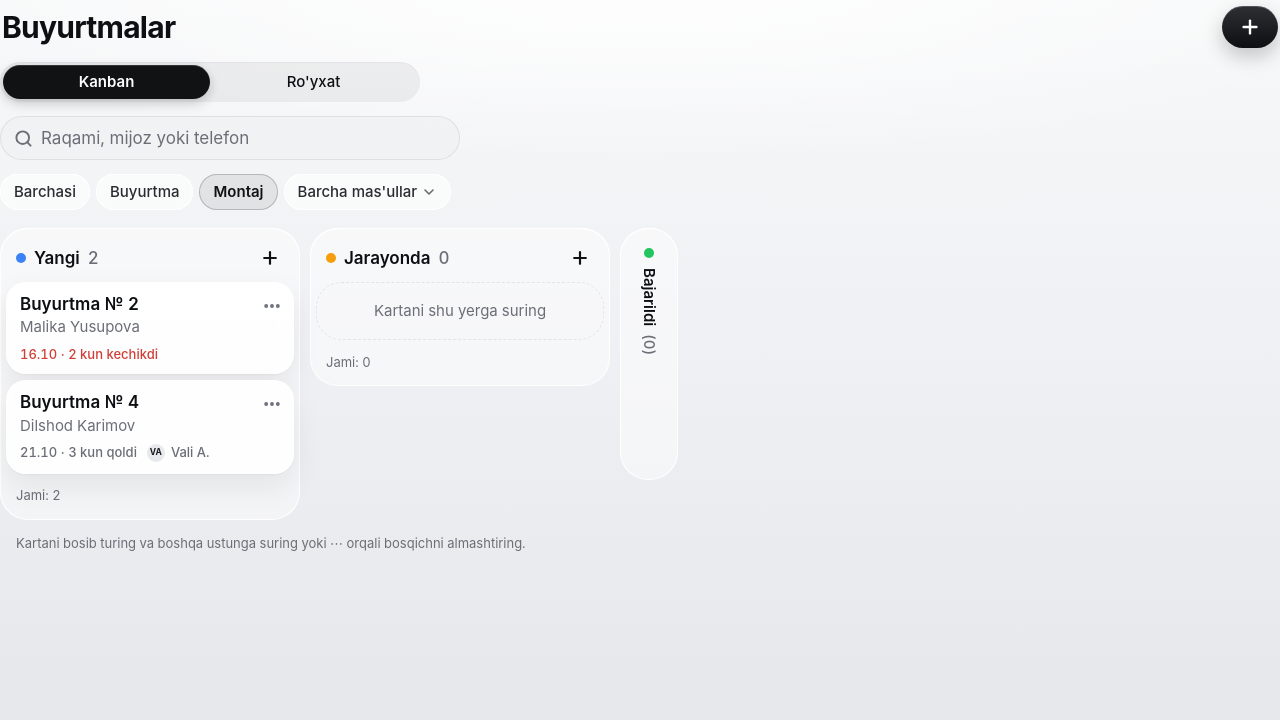
Test: the + of a column opens the dialog for that stage; under a tab it opens with that tab's type; it opens empty every time
Expected: the element named "Kanban" is shown, [0,228,678,520]
Click the button named "Buyurtma qo'shish: Jarayonda" at [580, 258], box [562,240,598,276]
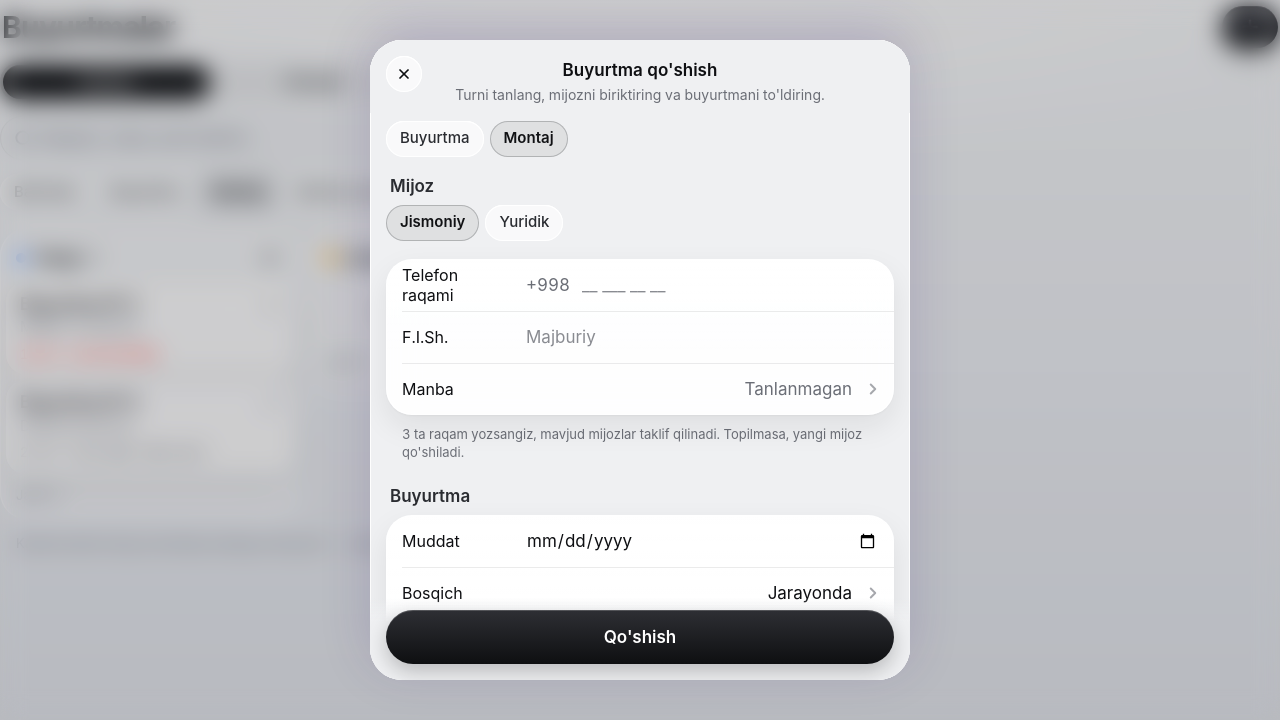
Result: the button labelled "Bosqich Jarayonda" is shown at [386,567,894,619]
Type "2026-10-18" into the date field labelled "Muddat" at [702, 541], box [526,519,878,563]
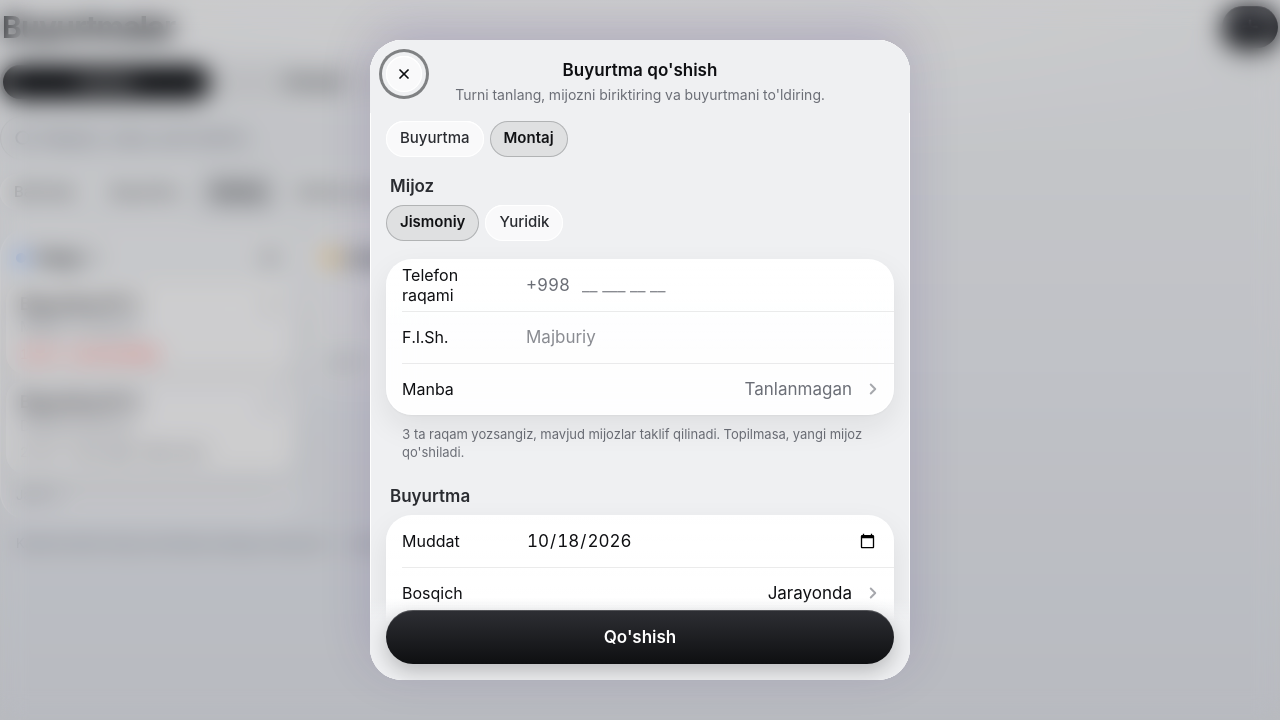
Press Escape
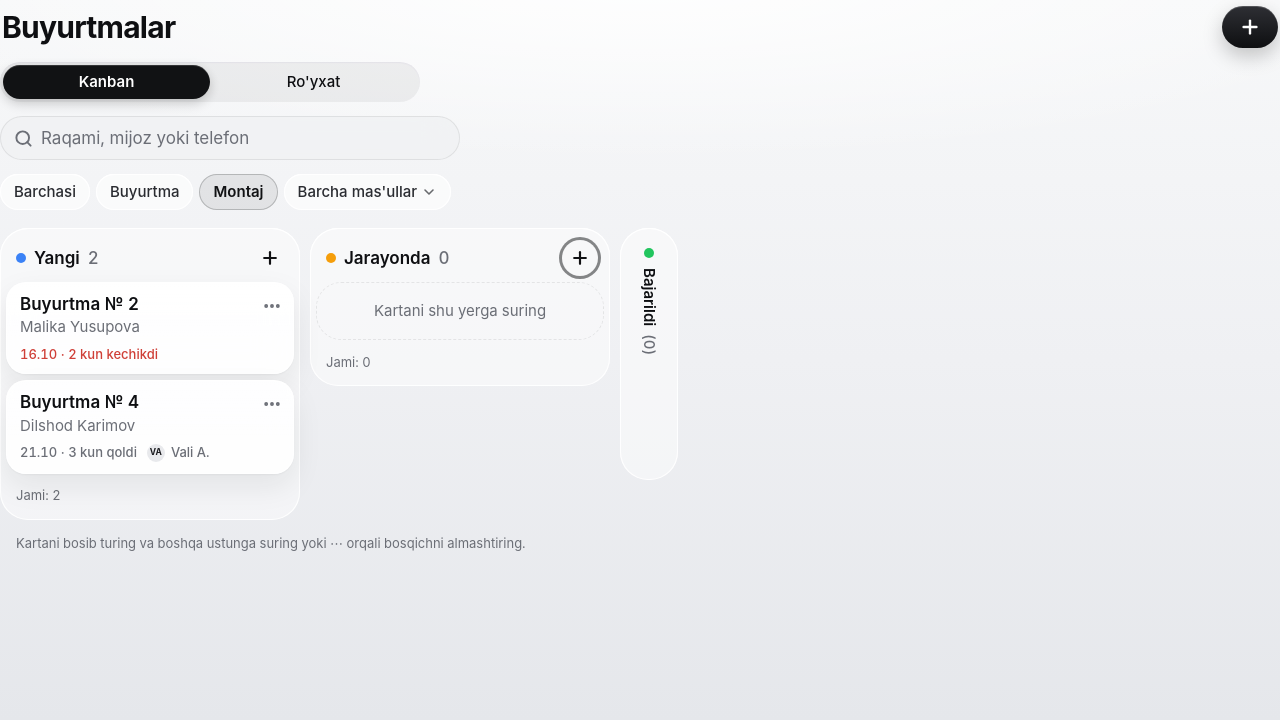
Result: the dialog is gone
Click the button named "Buyurtma qo'shish" at [1250, 27], box [1222,6,1278,48]
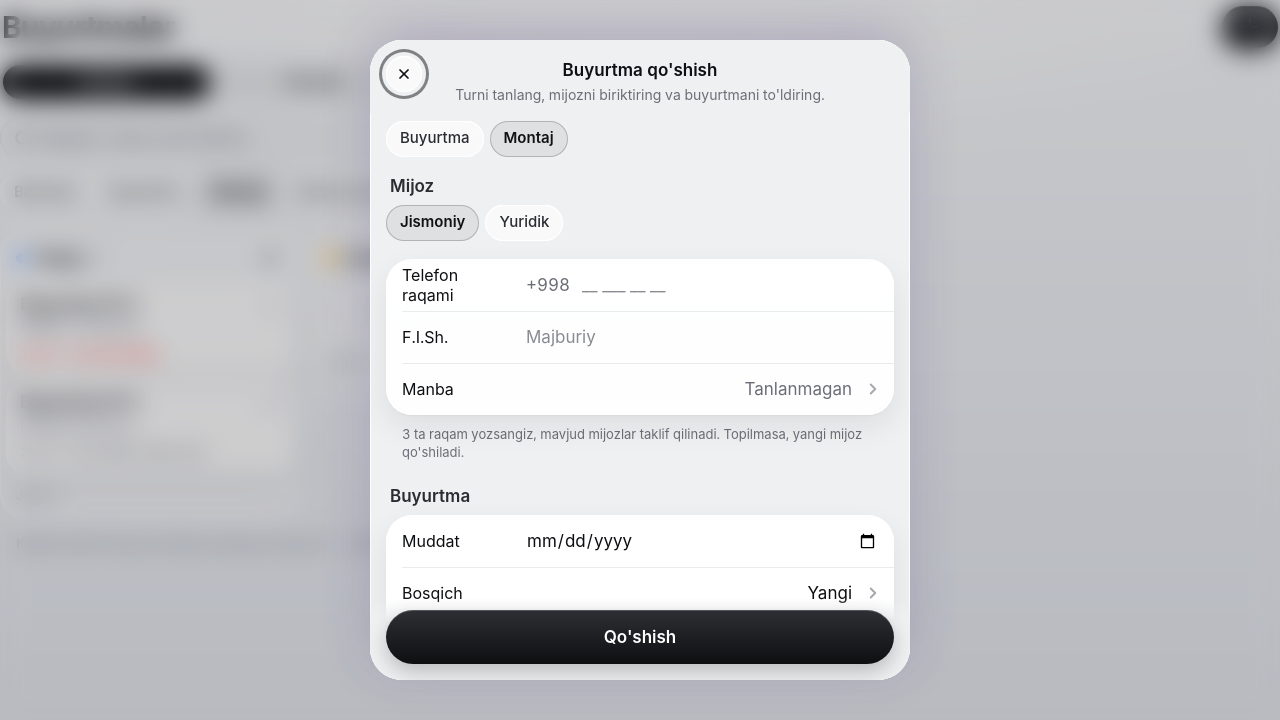
Result: the date field labelled "Muddat" is empty at [526,519,878,563]
Result: the button labelled "Bosqich Yangi" is shown at [386,567,894,619]
